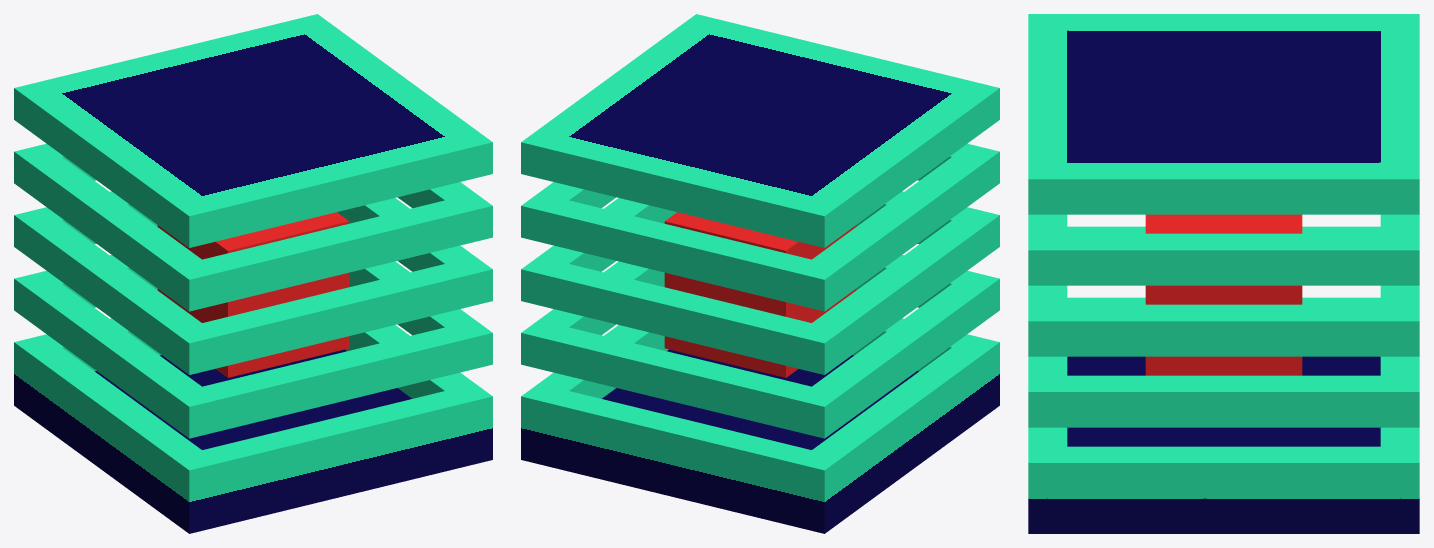
File: Ron.fbx
The picture shows the model from 3 angles, left to right: view 1: azimuth 30°, elevation 25°; view 2: azimuth 150°, elevation 25°; view 3: azimuth 270°, elevation 25°; orthographic projection. The views are drawn at different scales.
Visible parts, largest first — view 1: Ron; view 2: Ron; view 3: Ron.
Part boxes in pixels (box(x1,y1,x2,y2)): Ron: box(14, 14, 492, 533); Ron: box(521, 14, 999, 533); Ron: box(1028, 14, 1419, 533).
Size of the model in its own units: 10 by 10 by 10.
Materials: 1 (1 with a texture image).
